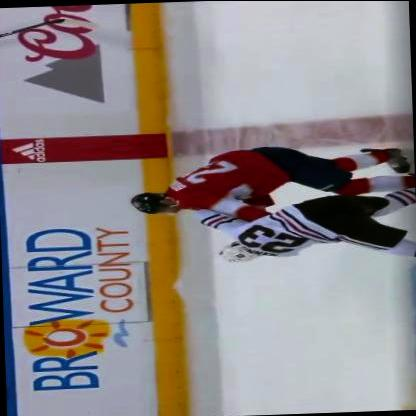voilence: (127, 141, 415, 266)
